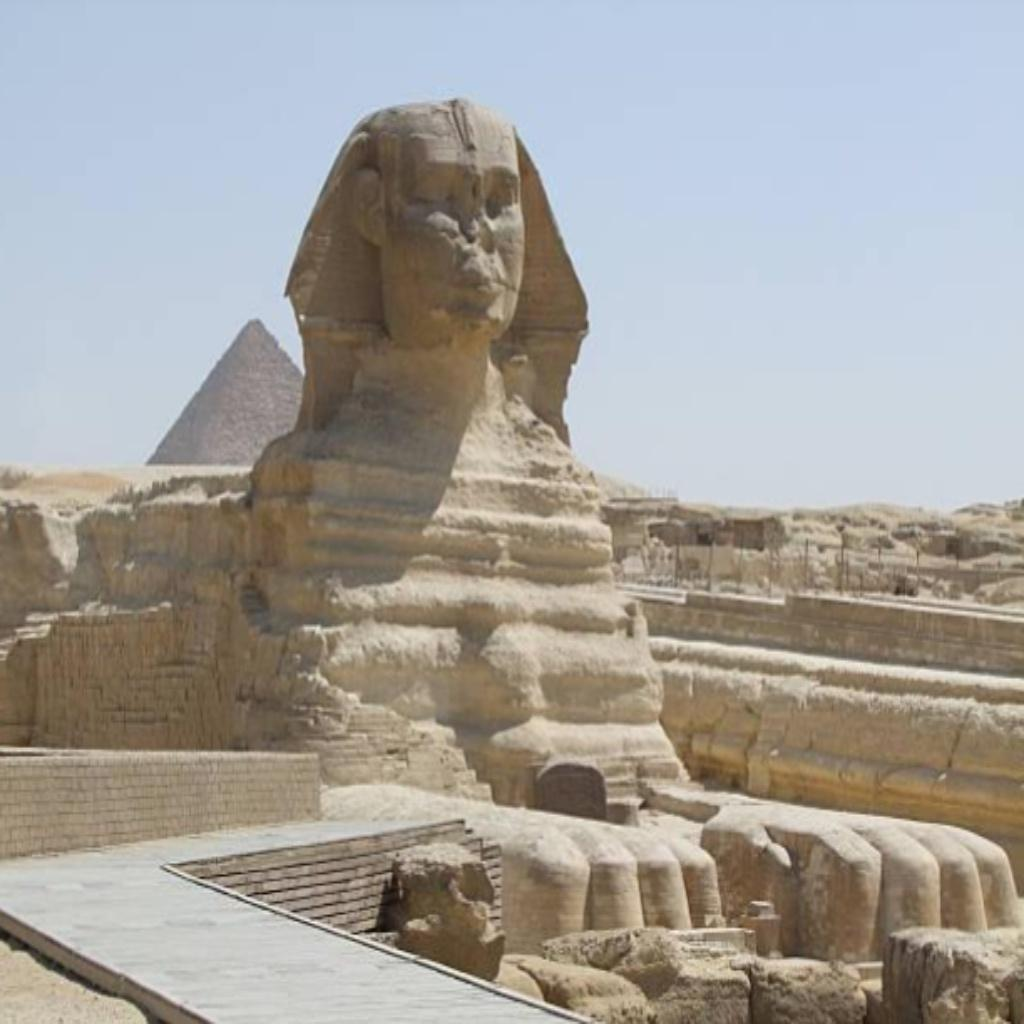Sphinx: (238, 94, 692, 812)
